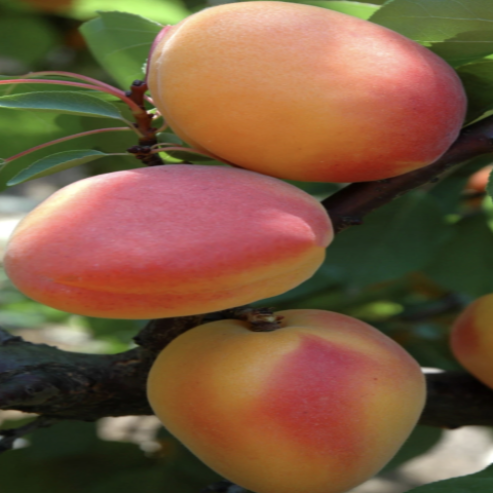mango: (126, 2, 486, 187), (124, 289, 449, 487), (2, 147, 337, 332)
